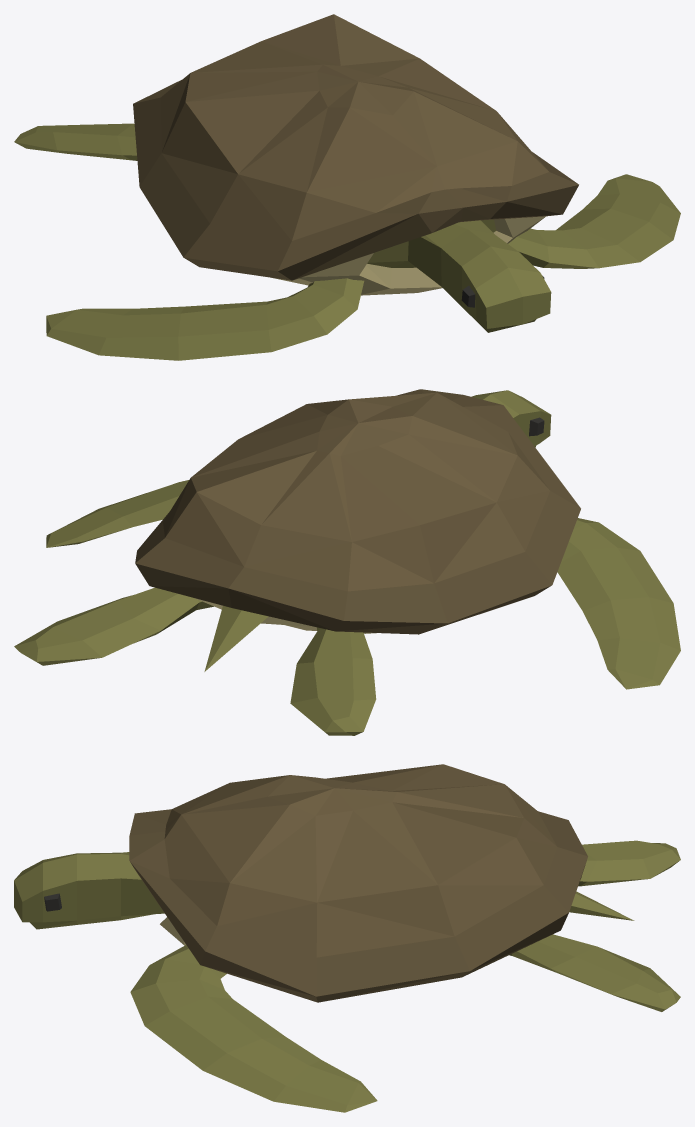
File: Turtle .fbx
The picture shows the model from 3 angles, top to bottom: view 1: azimuth 30°, elevation 25°; view 2: azimuth 150°, elevation 25°; view 3: azimuth 270°, elevation 25°; orthographic projection. The views are drawn at different scales.
Visible parts, largest first — view 1: Turtle; view 2: Turtle; view 3: Turtle.
Part boxes in pixels (left/top/right/bottom): Turtle: left=14, top=14, right=680, bottom=360; Turtle: left=14, top=389, right=680, bottom=735; Turtle: left=14, top=764, right=680, bottom=1112.
Size of the model in its own units: 112 by 32.3 by 108.
